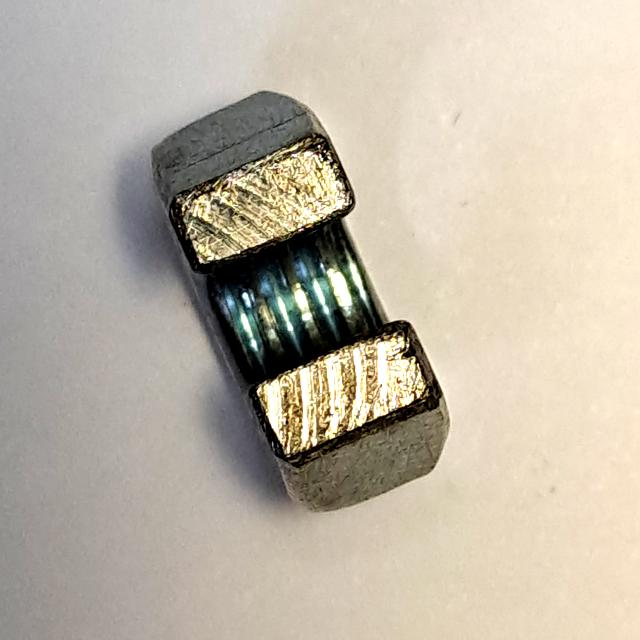Side-Fracture: (138, 68, 474, 537)
